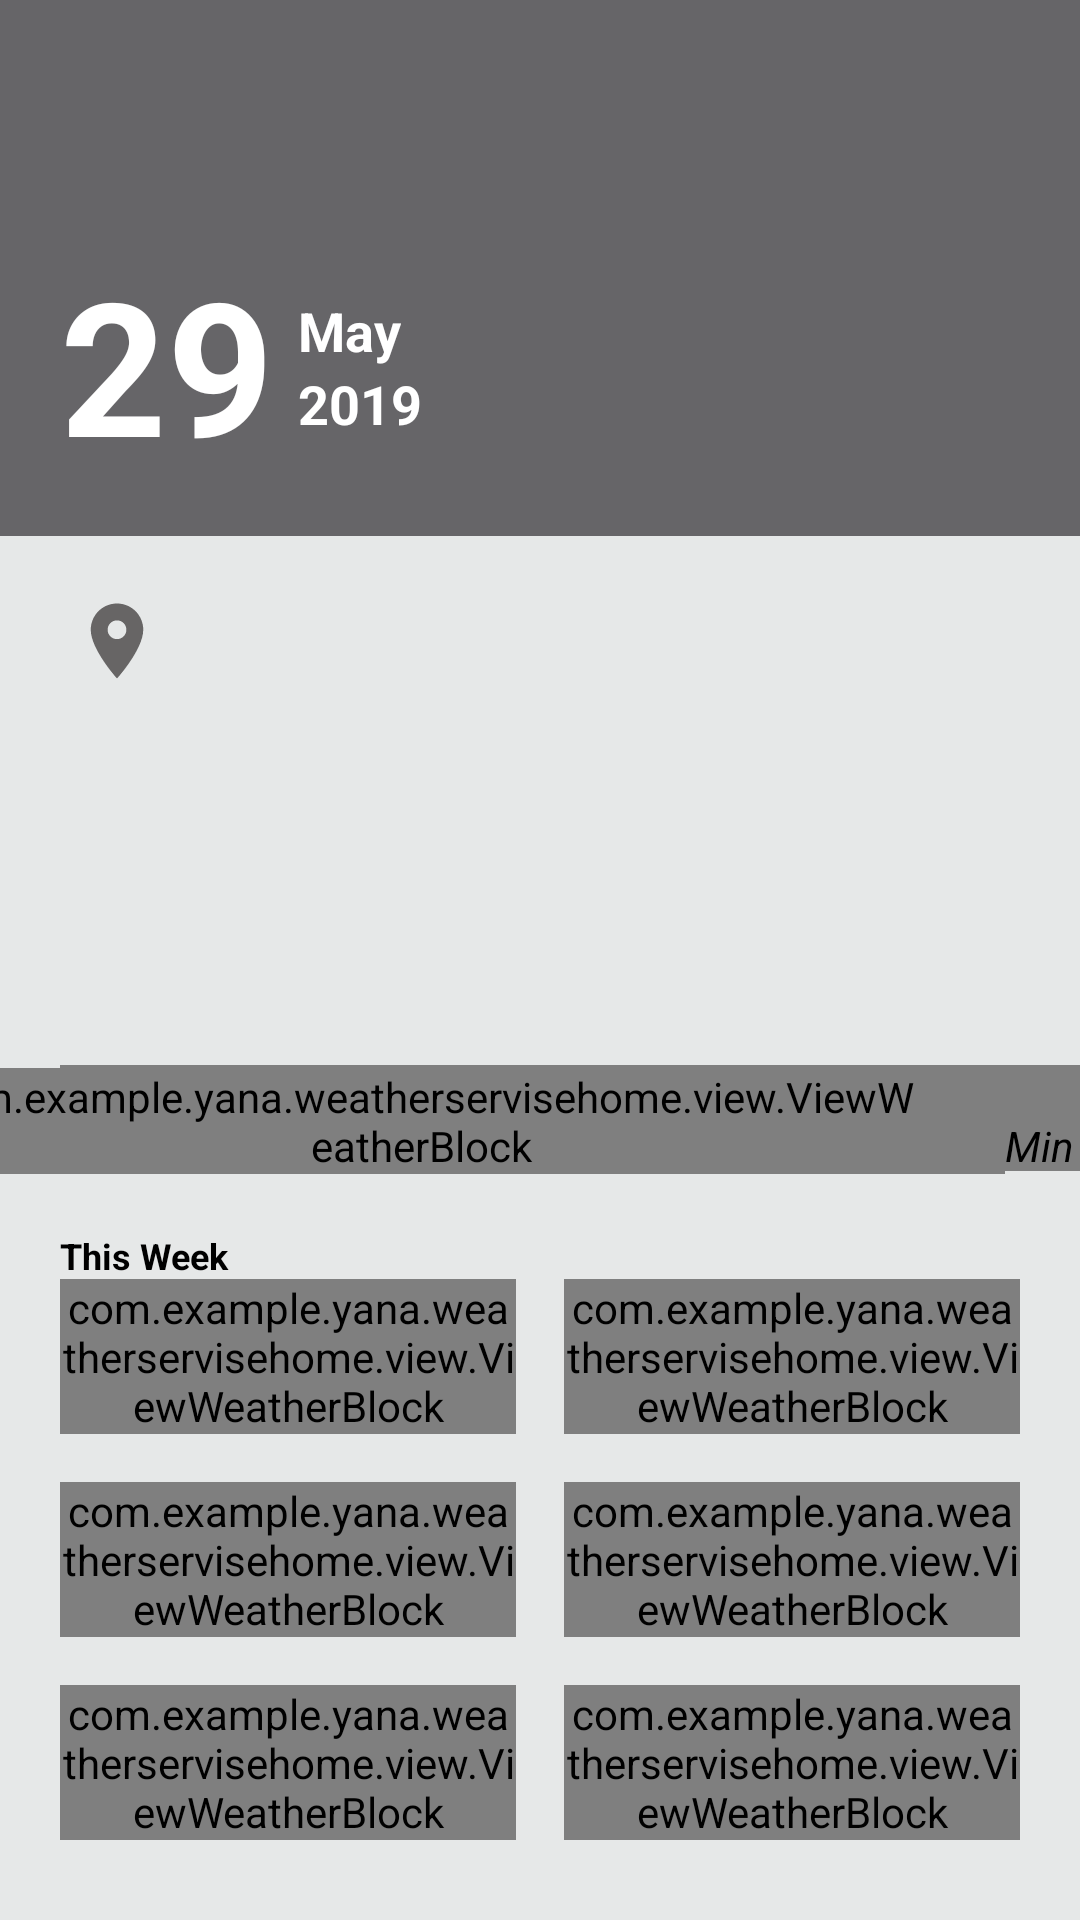

Icon click points for this 1080 x 1920 phone screenshot, format (x,y):
location: (117,640)
